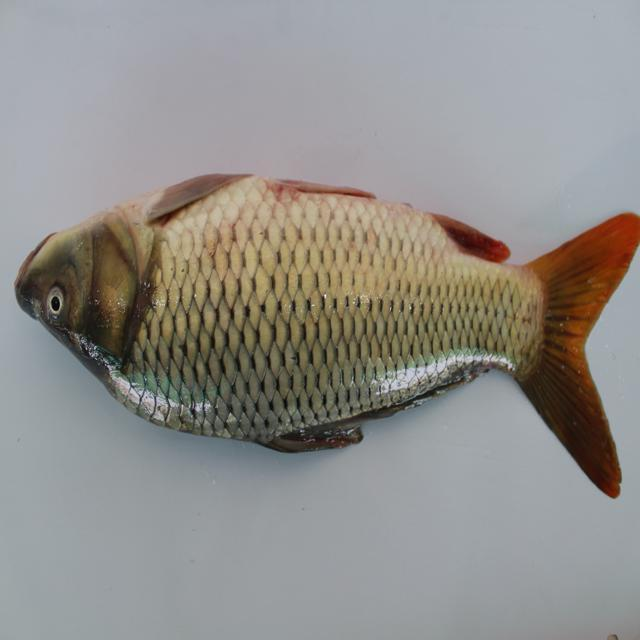CommonCarp: (8, 158, 640, 520)
